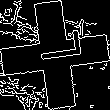L_W: (28, 36, 82, 74)
